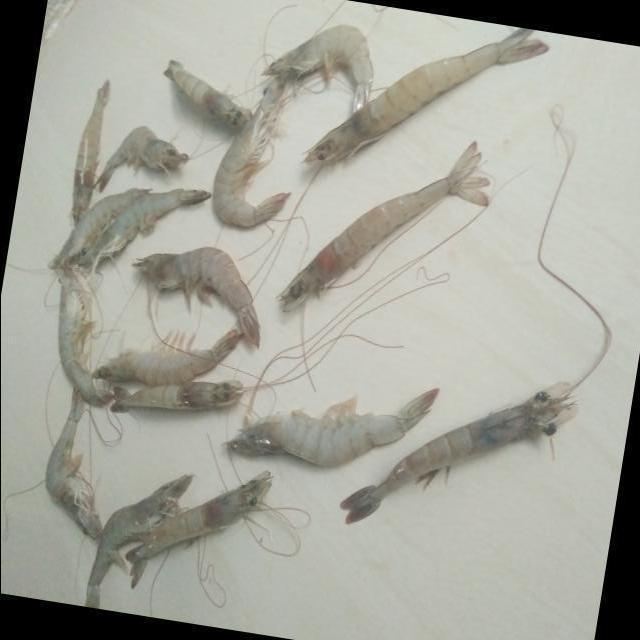shrimp: (278, 142, 488, 311), (340, 383, 575, 525), (303, 28, 548, 164), (124, 472, 270, 588), (225, 389, 438, 467), (83, 476, 191, 609), (132, 247, 258, 346), (70, 188, 209, 272), (211, 78, 289, 227), (261, 24, 372, 116), (89, 329, 241, 386), (43, 389, 100, 540), (47, 188, 148, 269), (56, 269, 111, 407), (162, 59, 250, 128), (95, 126, 187, 191), (70, 79, 108, 224), (108, 381, 241, 413)
